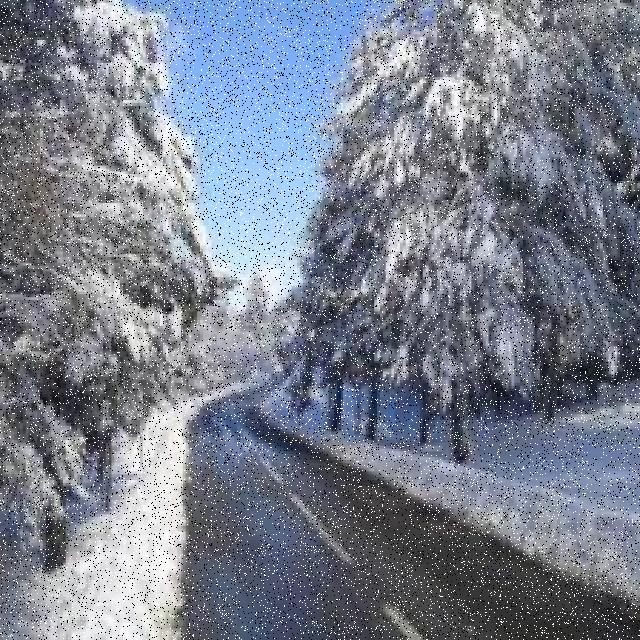ice-road: (175, 398, 640, 640)
